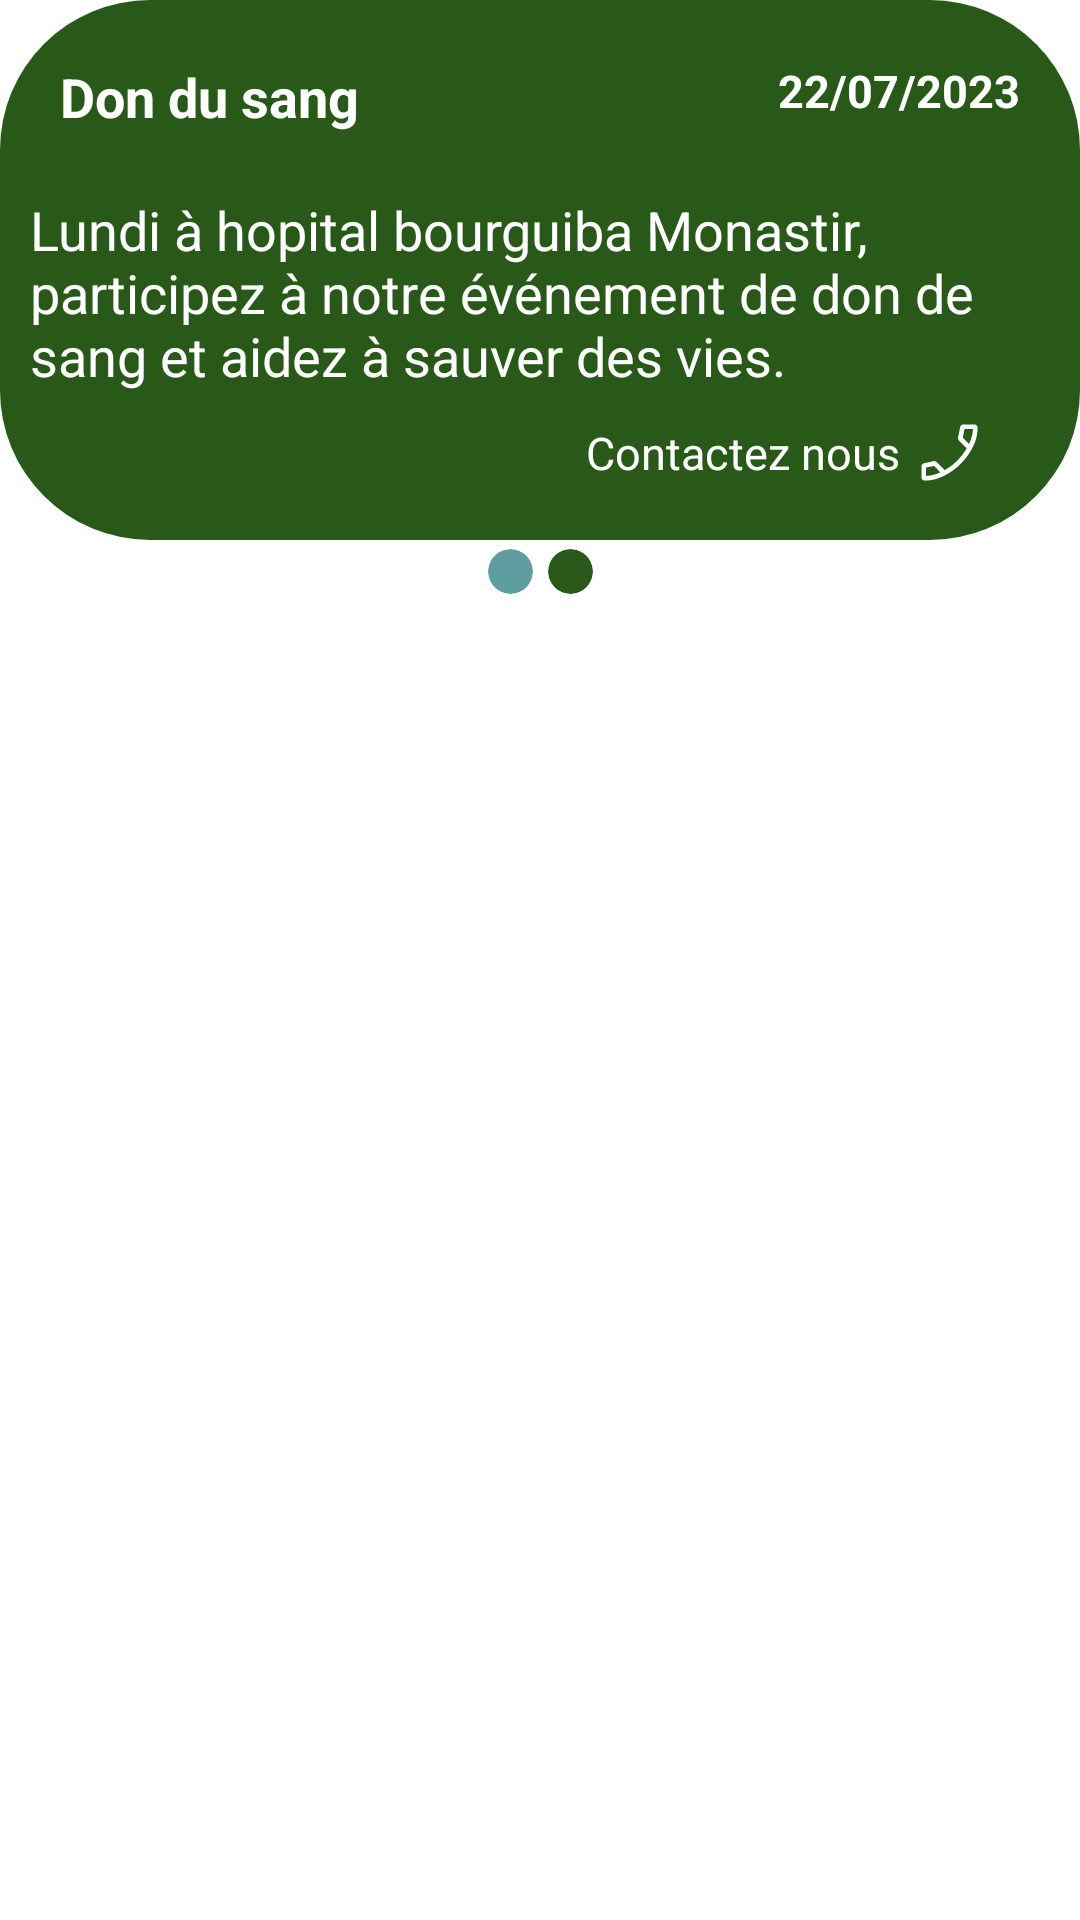

Where icons sit on this 1080×1920 app screen, as bbox=(x1, y1, x2, y2):
phone: bbox=(921, 424, 978, 481)
